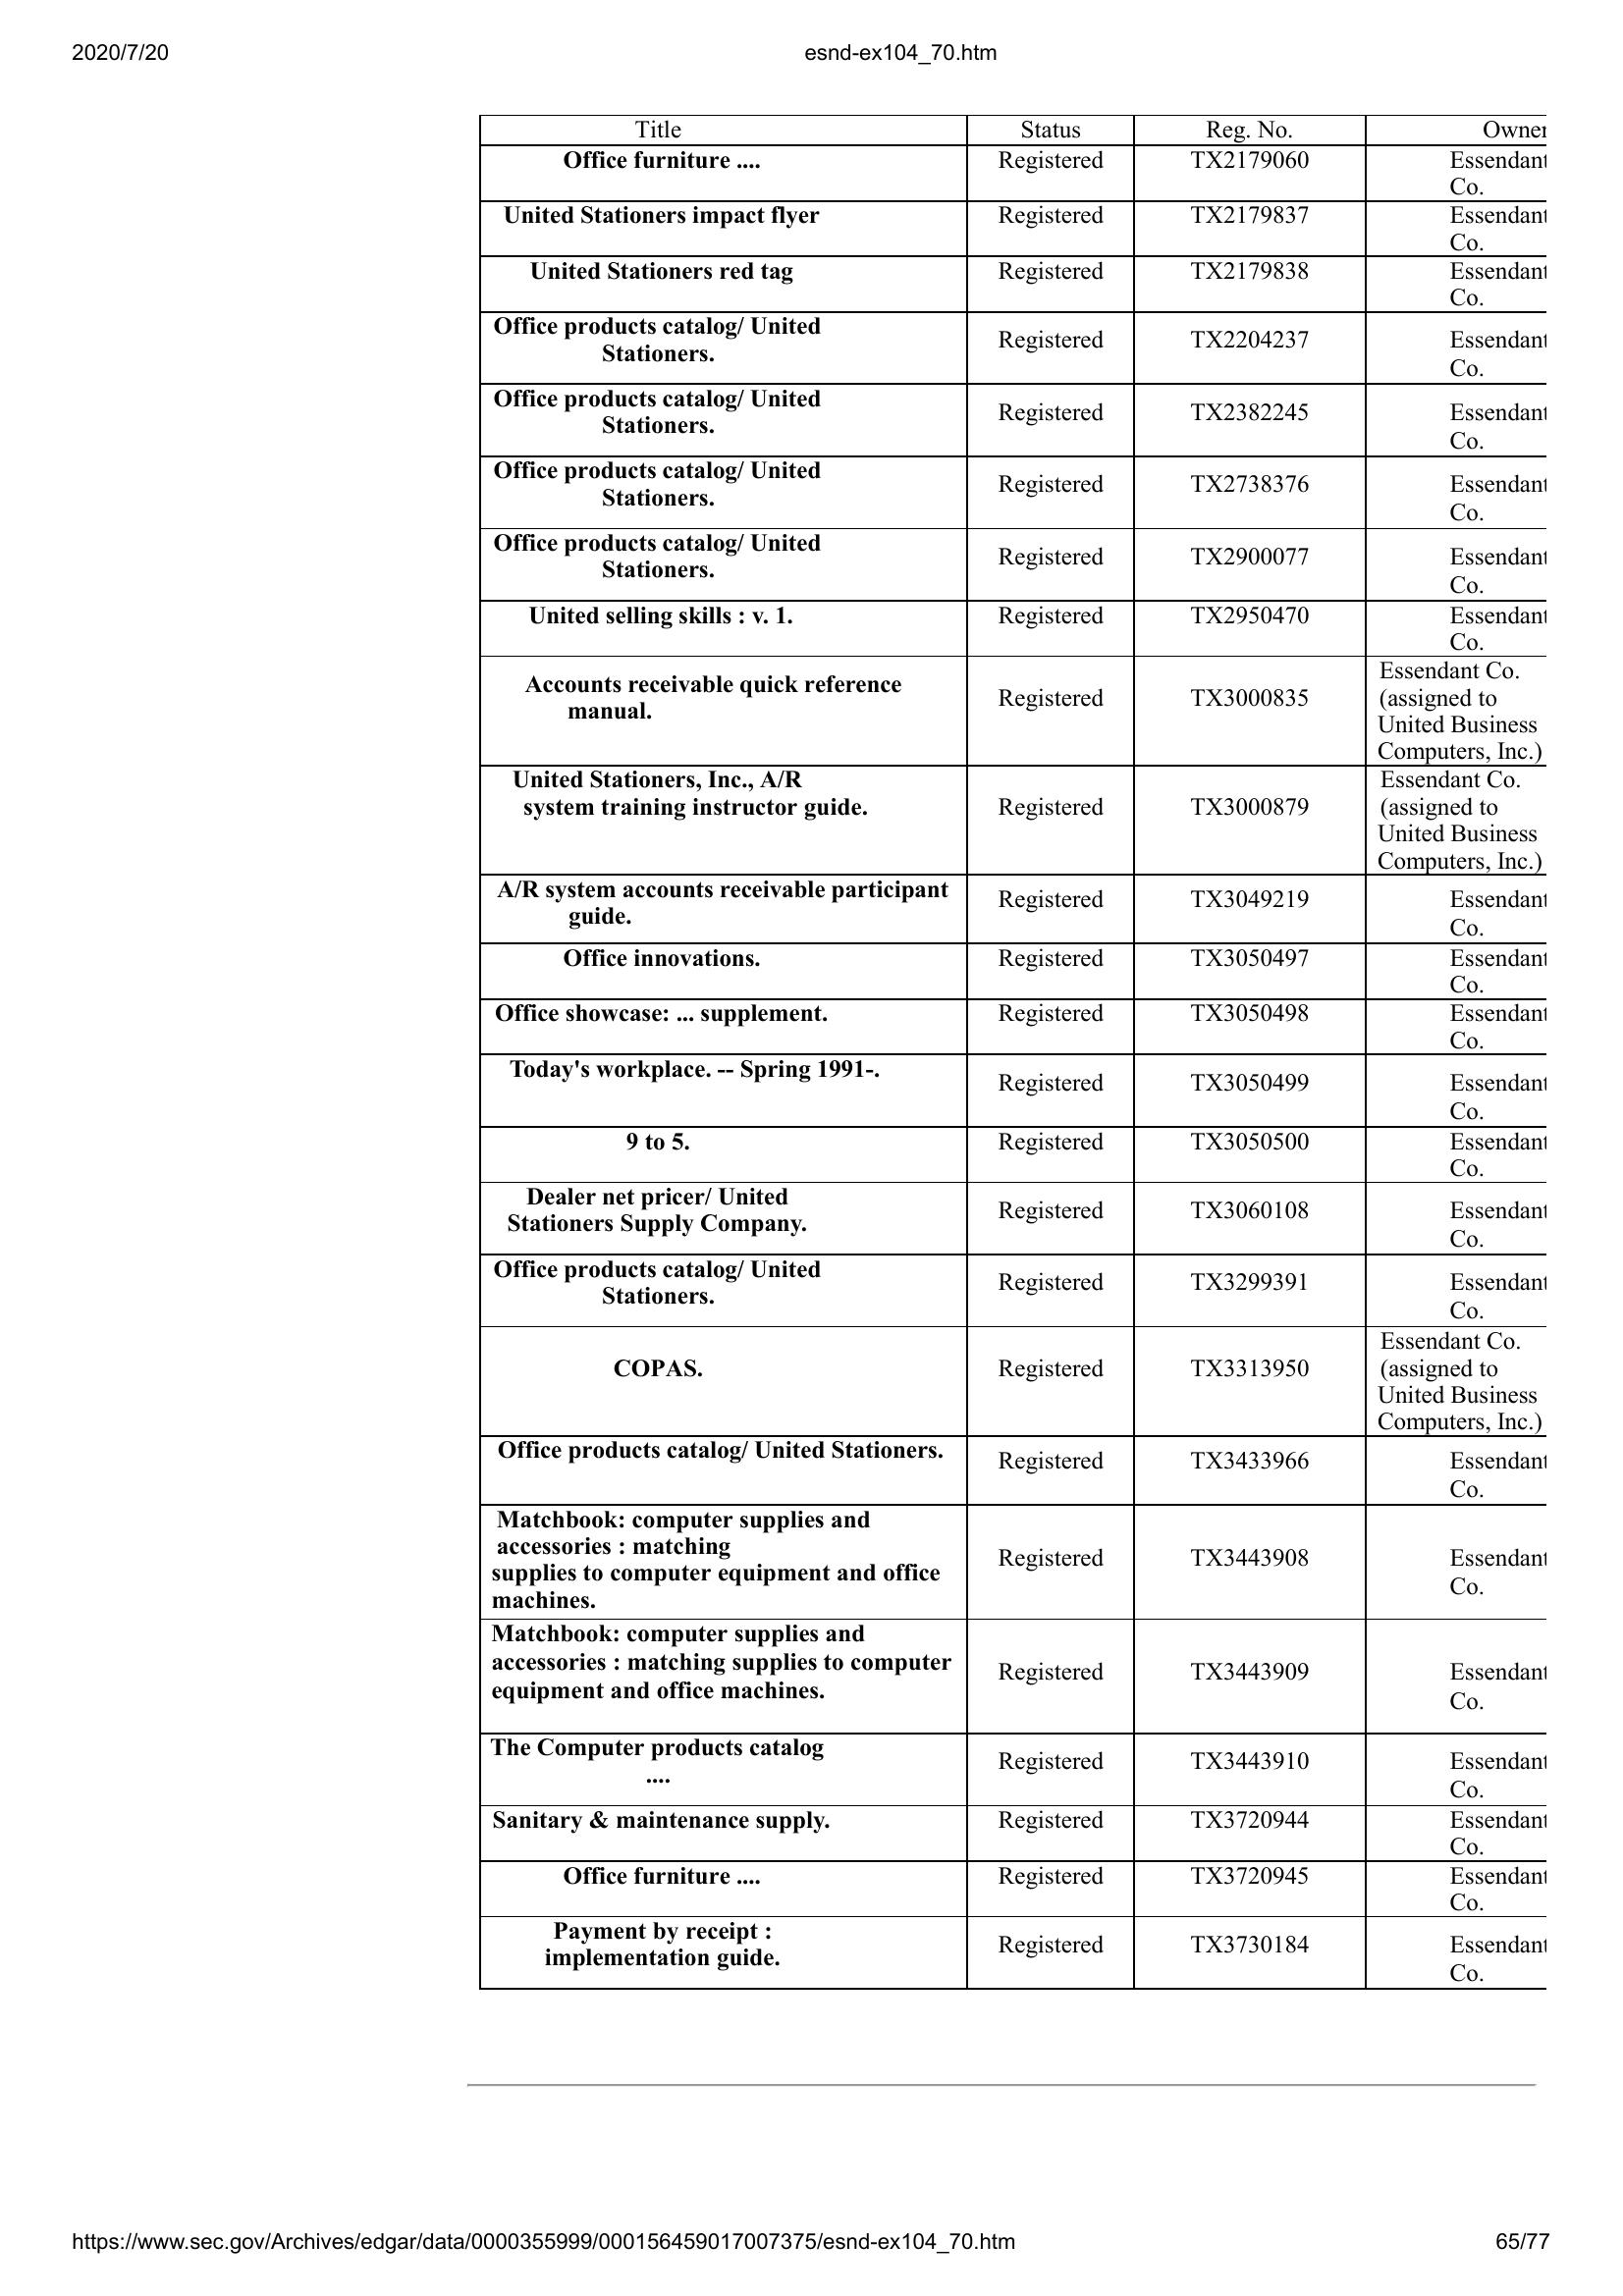table: (471, 109, 1562, 2001)
